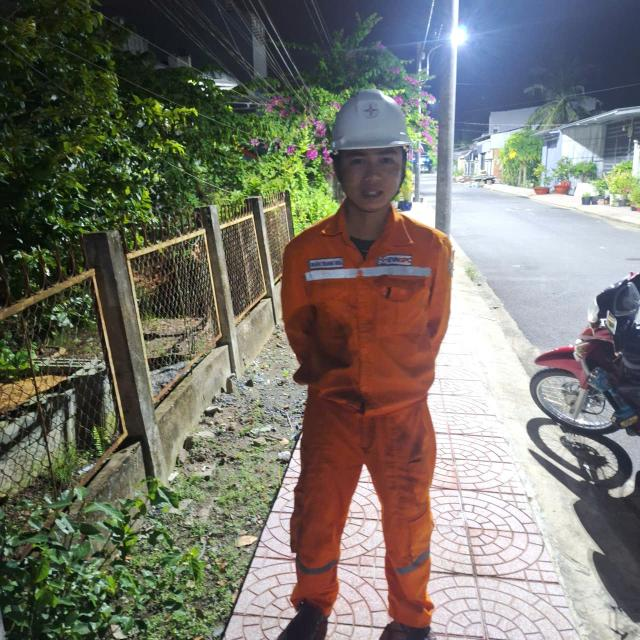helmet: (323, 83, 413, 163)
shoes: (265, 573, 352, 640), (365, 598, 452, 640)
